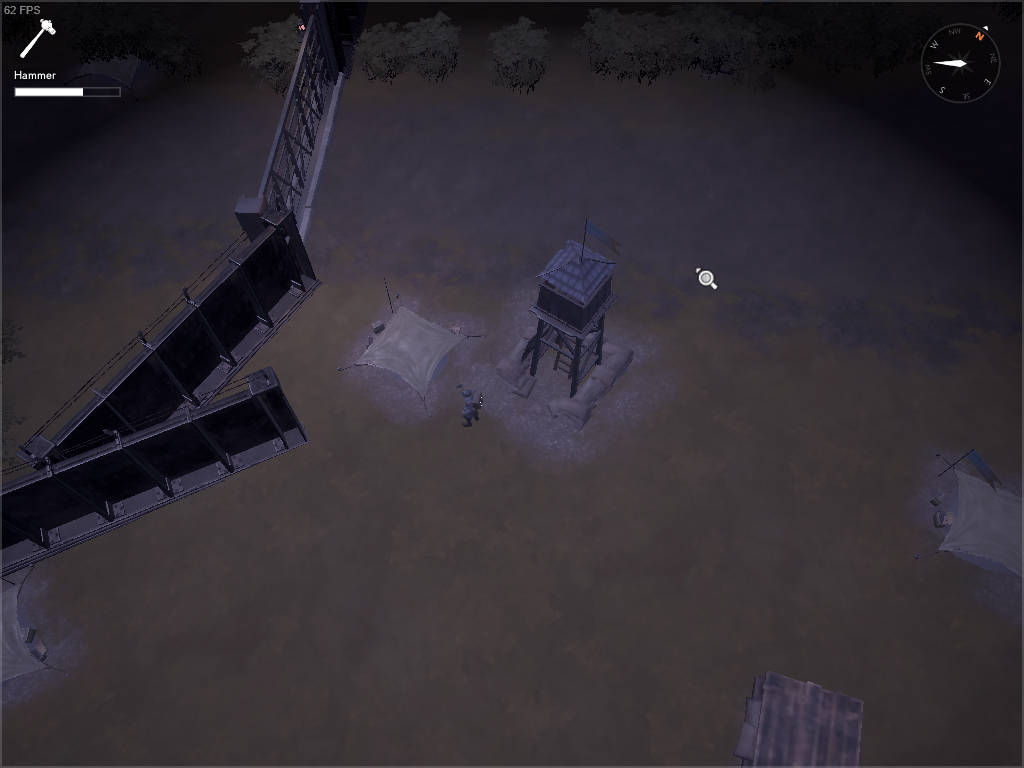fortified_wall: (8, 188, 331, 480), (1, 359, 314, 583)
foxhole: (333, 274, 488, 424), (905, 440, 1024, 589), (1, 554, 72, 713), (58, 20, 155, 100)
pillbox: (724, 666, 873, 768)
player: (457, 386, 486, 431)
raised_gate: (231, 13, 356, 251)
watchtower: (489, 211, 643, 433)
